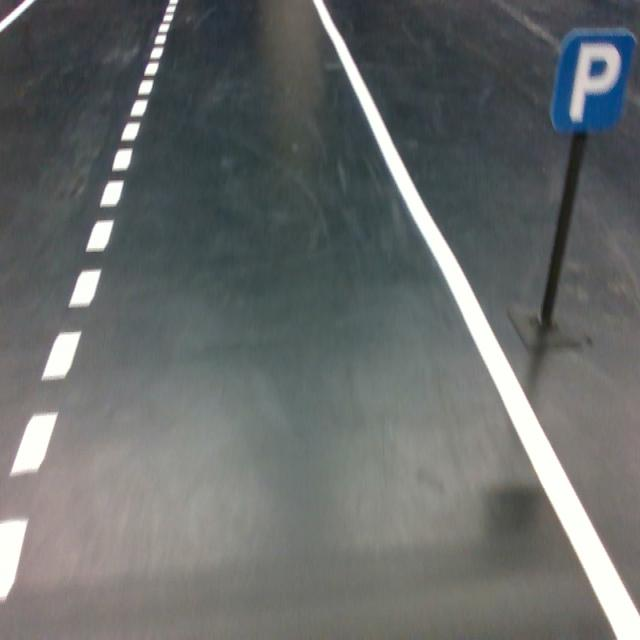parking-sign: (548, 26, 638, 135)
